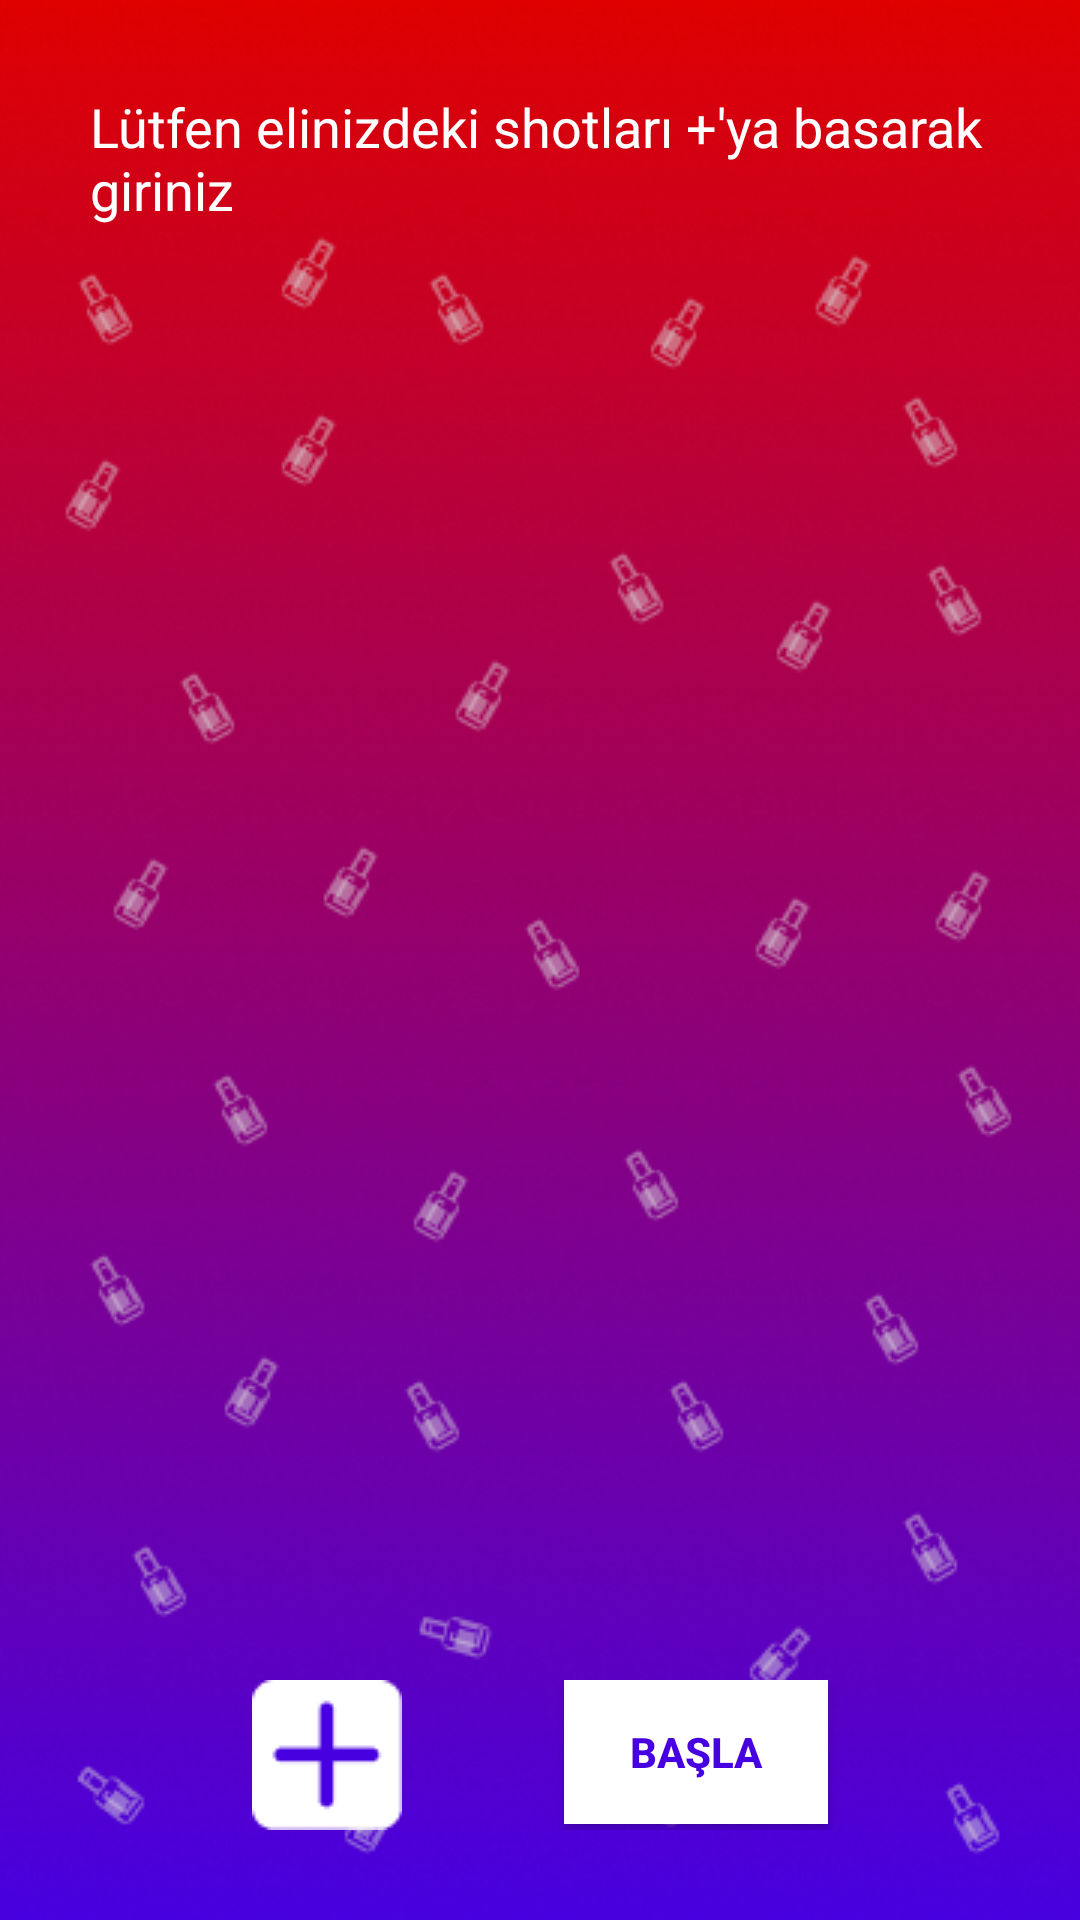

Screen size 1080w x 1920h. Icon name, then its box in pixels as (x1, y1, x2, y2):
plus: (252, 1680, 402, 1830)
